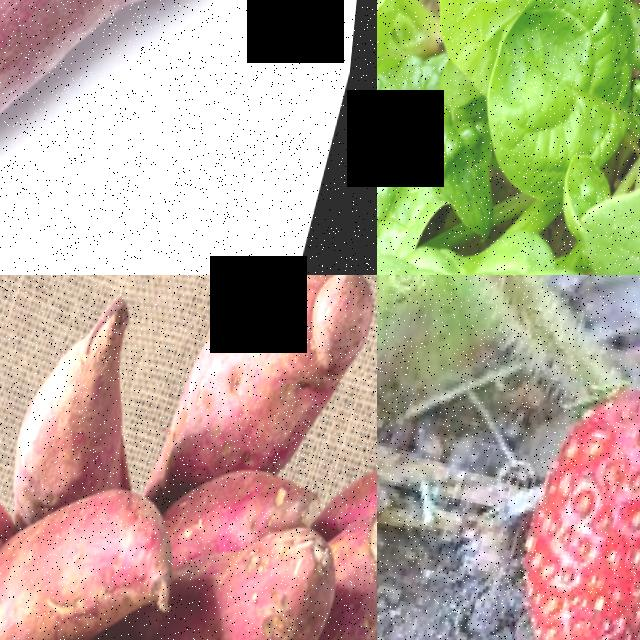spinach: (473, 0, 640, 208), (377, 193, 640, 275)
strawberry: (495, 362, 640, 640)
sweet potato: (0, 0, 256, 248), (148, 275, 377, 519), (0, 463, 201, 640), (15, 282, 166, 491), (161, 498, 358, 640), (0, 326, 35, 611)
